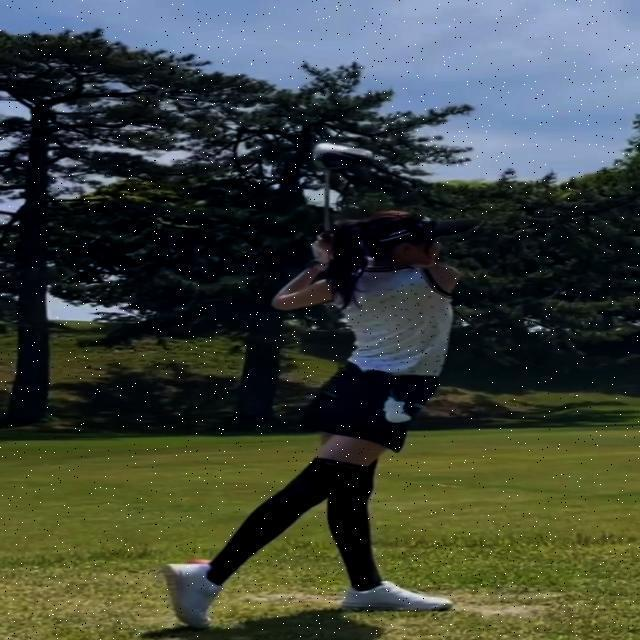ClubHead: (314, 141, 374, 170)
